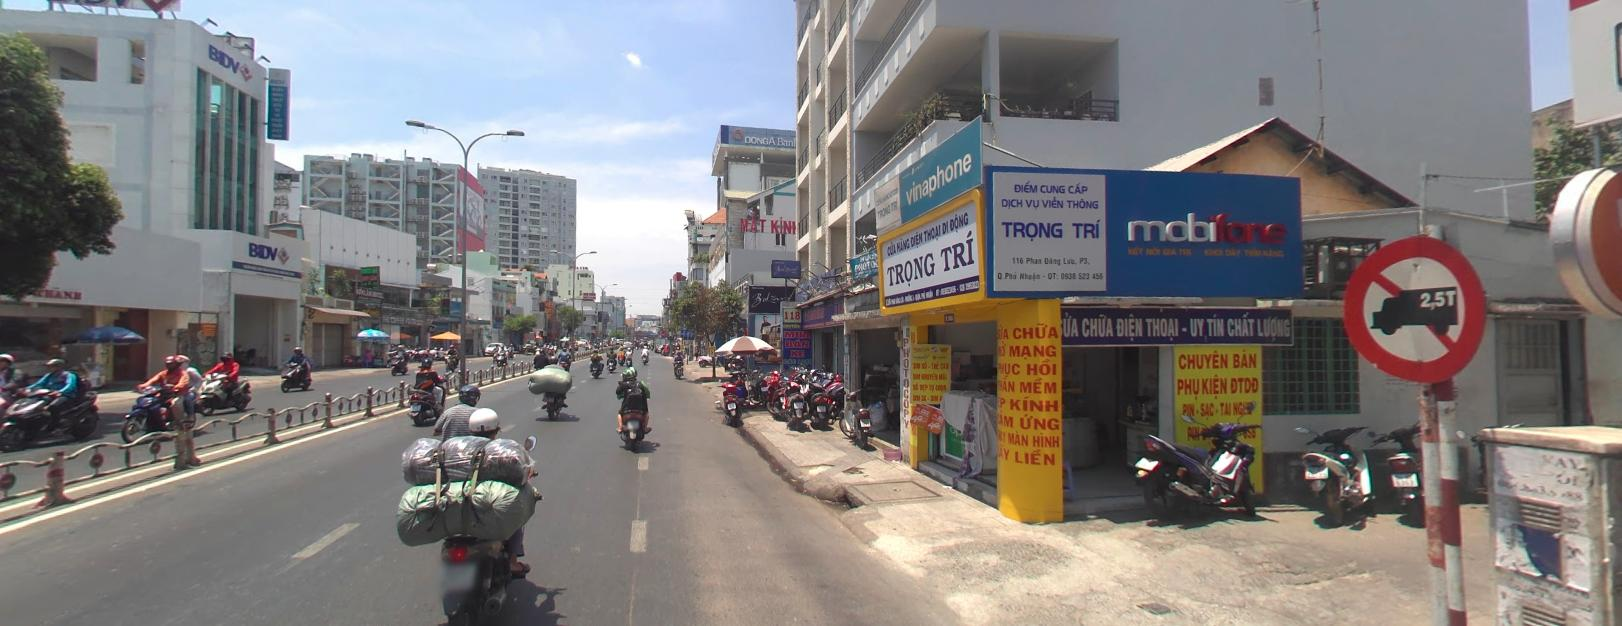Cam con lai: (1336, 231, 1488, 379)
